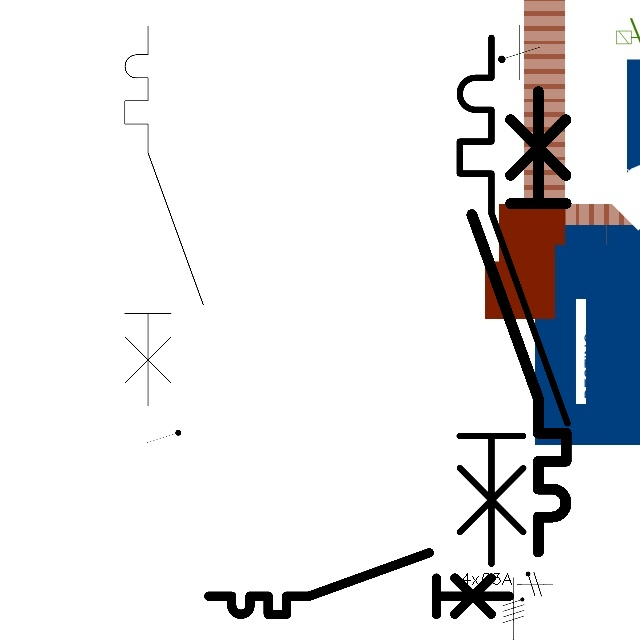interruptor_termomagnetico: (446, 24, 581, 577), (460, 79, 578, 563), (115, 16, 213, 415), (201, 545, 517, 622)
